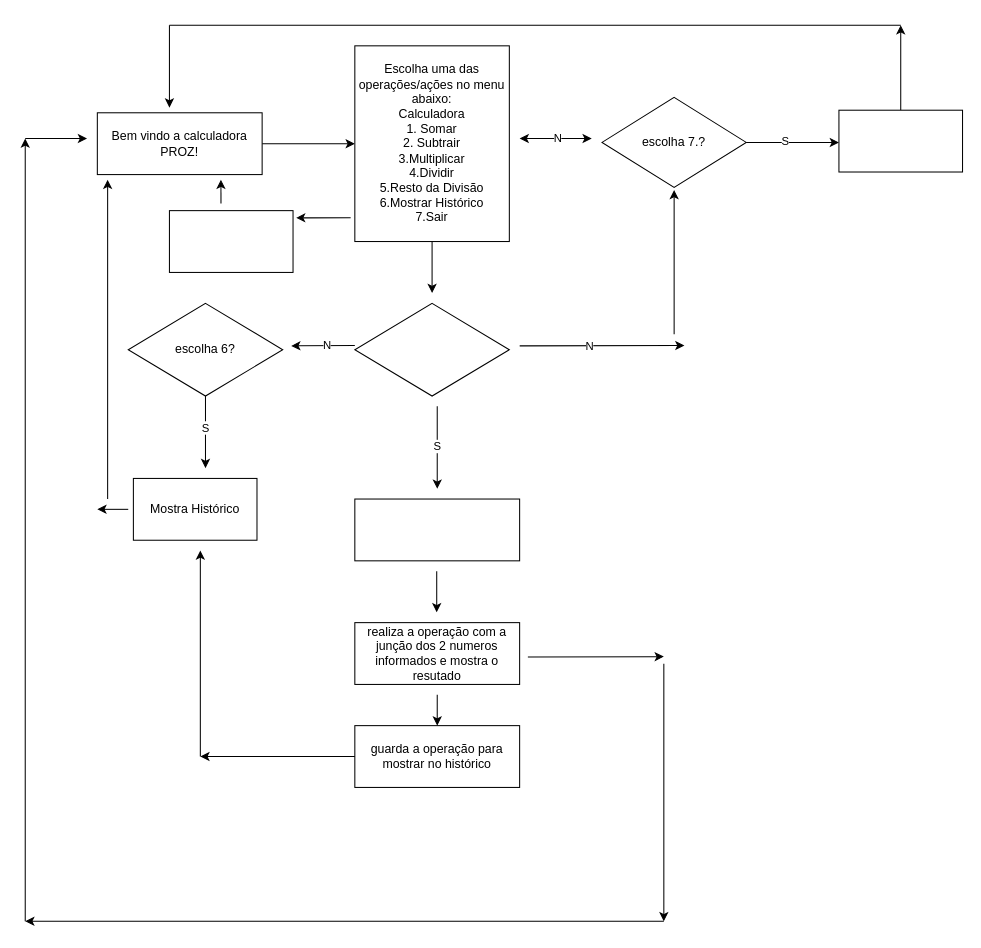
The diagram is 981 pixels wide and 948 high, and some of its shapes have lost their labels. The centre of each missing label's shape, as x and y in pixels:
"Escolha 1,2,3,4,5?" belongs at [431,349].
"fim do calculo" belongs at [900,140].
"Informar primeiro número; informar segundo número" belongs at [437,529].
"se digitar n. errado ou inexistente - Mensagem de Erro" belongs at [230,241].
